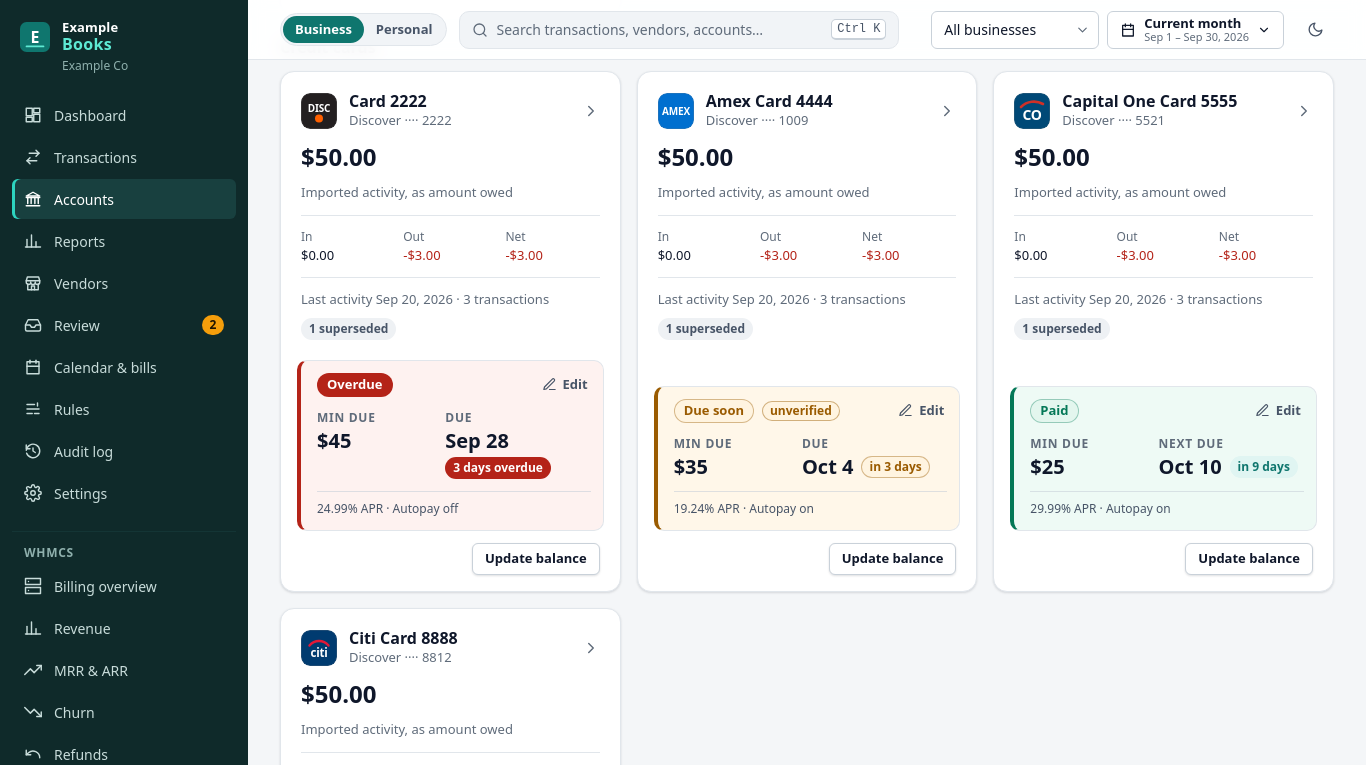
payment info on business account tiles › edits from the tile in business mode and updates the table
(page scrolled)
Expected: the element with class "account-pay" shows "Min due", [317,409,376,426]
Click the button with aria-label "Edit payment details for Card 2222" at (565, 385), box [532,370,597,400]
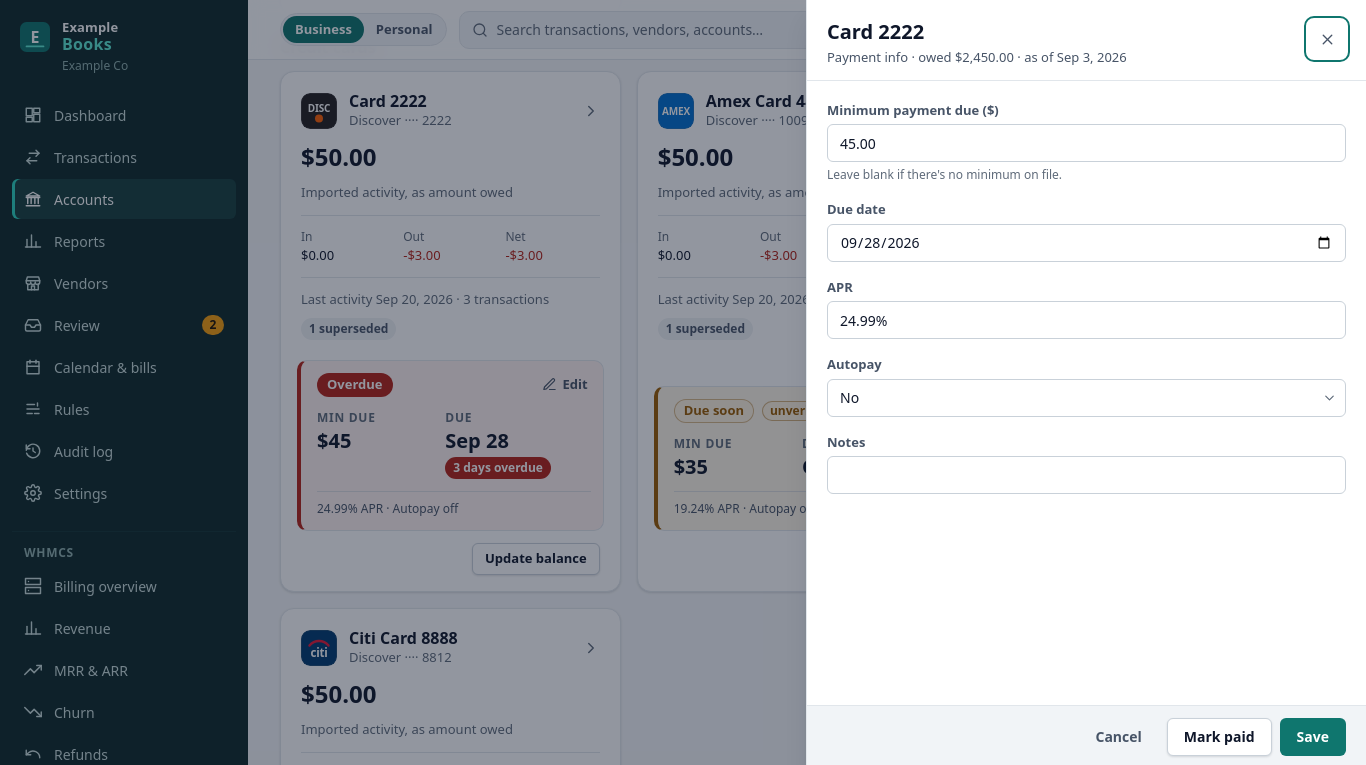
Replace the text in the field labelled "APR" with "18.5%" at (1086, 320), box [827,301,1346,339]
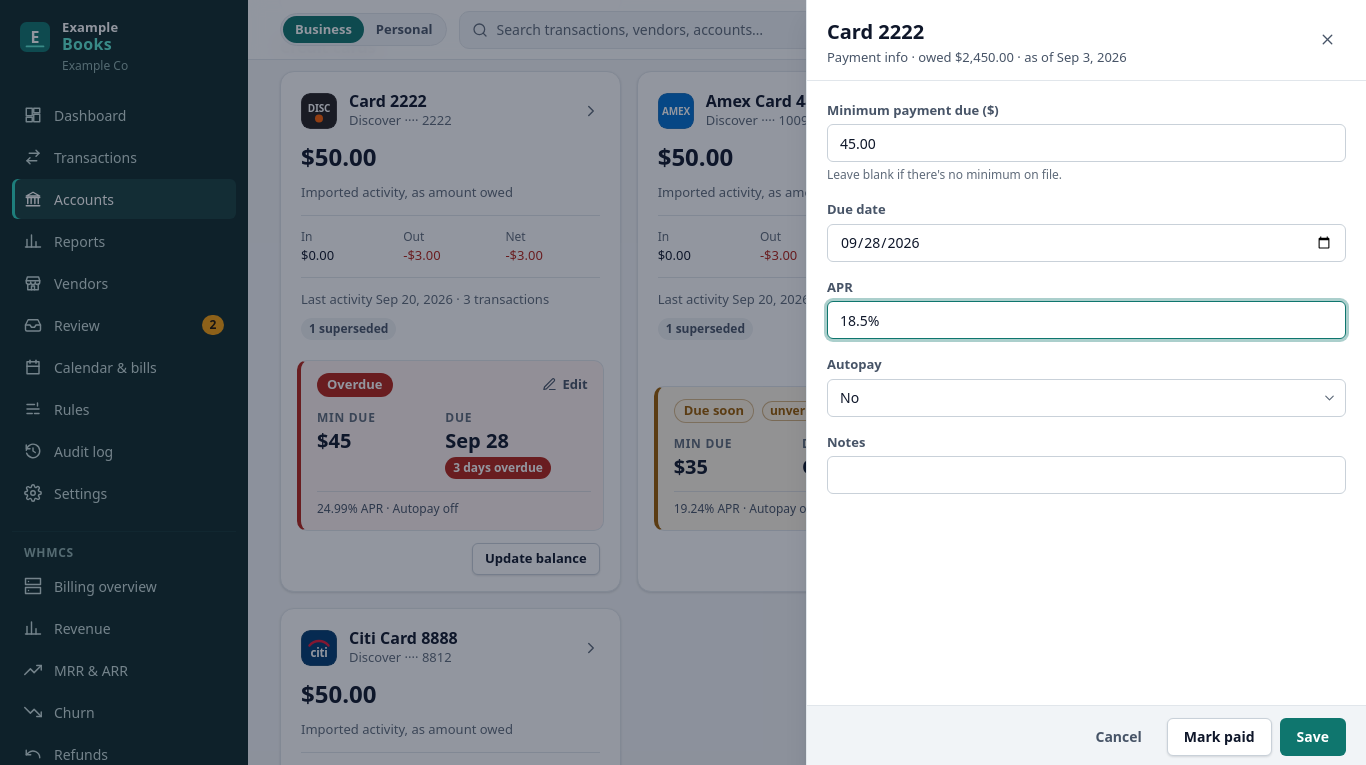
Click the button "Save" at (1313, 737), box [1280,718,1346,756]
(page scrolled)
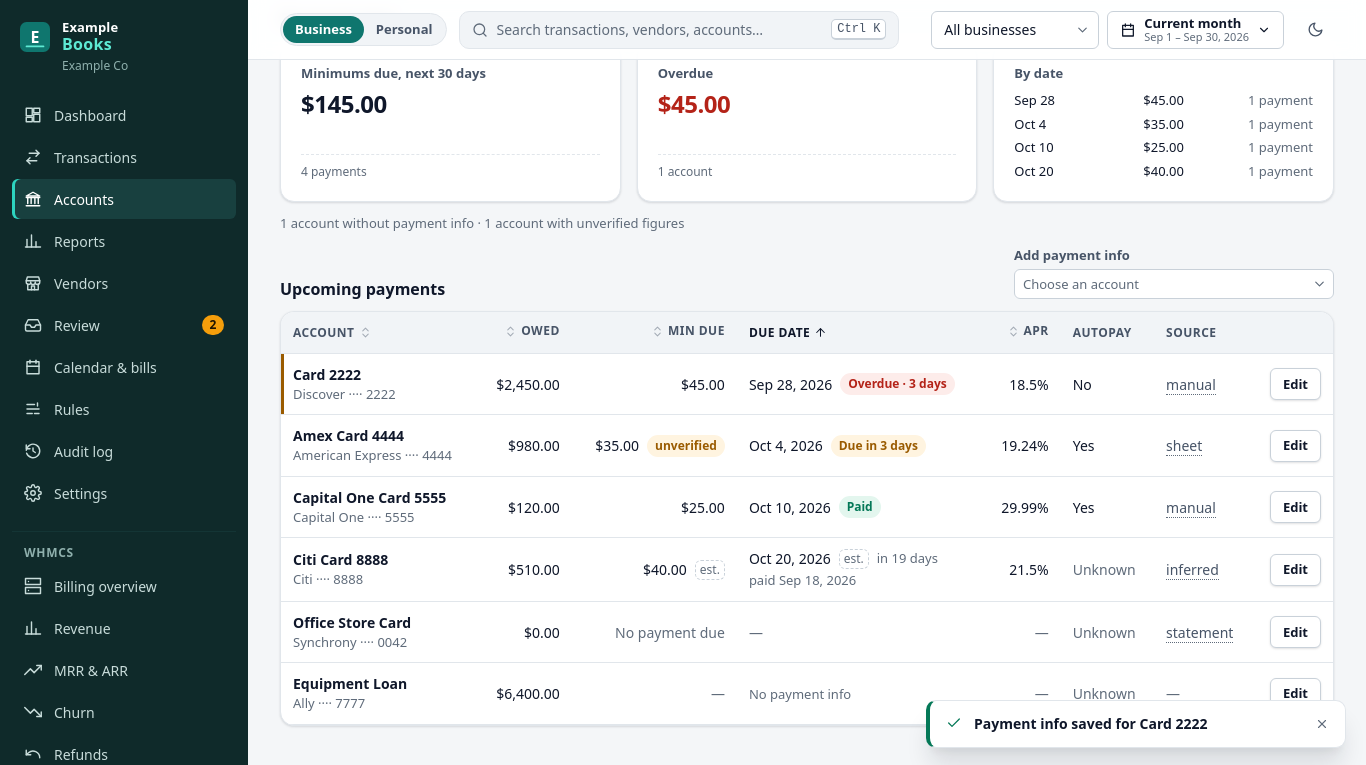
Now the text "18.5%" is shown, box [1009,375,1049,394]
